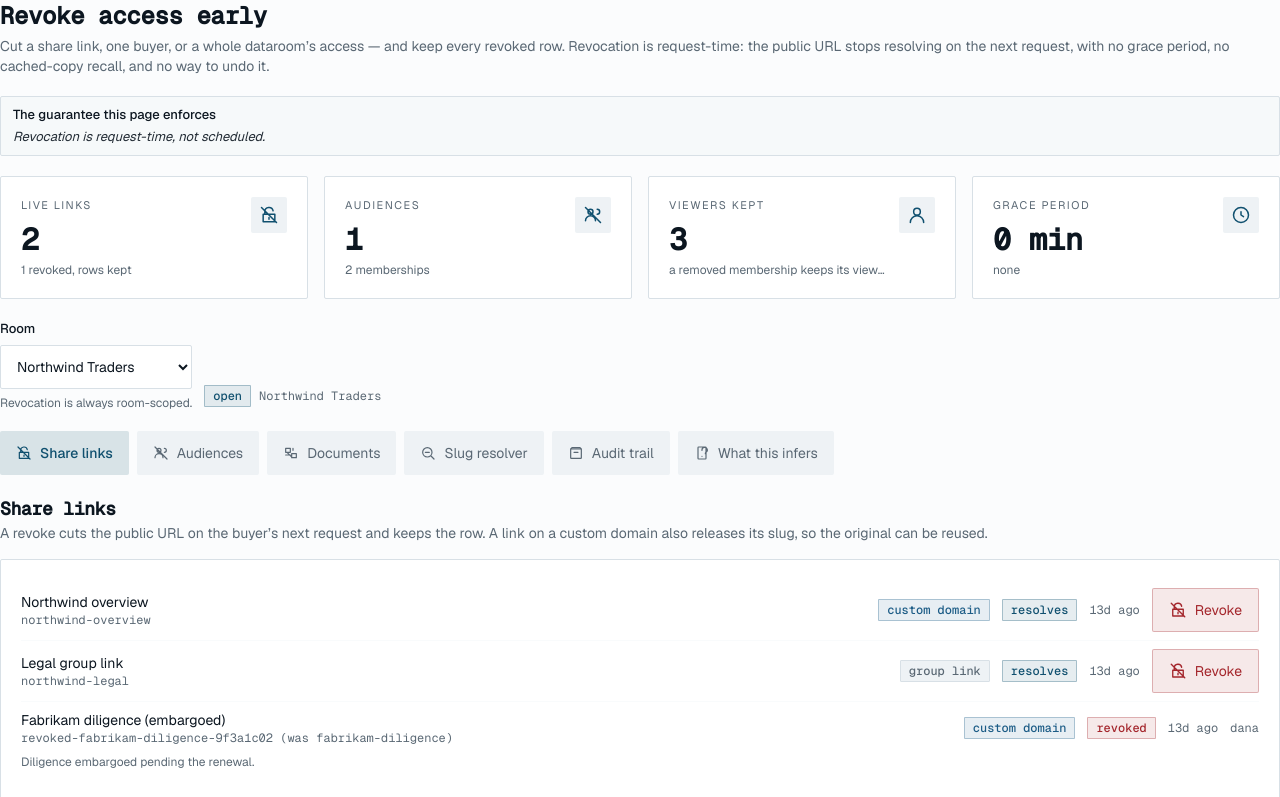
Test: share links › shows the retained row and its audit trail with the cut
Expected: the tab "Share links" is shown, x1=0 y1=432 x2=129 y2=476
Click the button "Revoke" in the row of "northwind-overview" at (1205, 610), box x1=1152 y1=588 x2=1259 y2=632
(page scrolled)
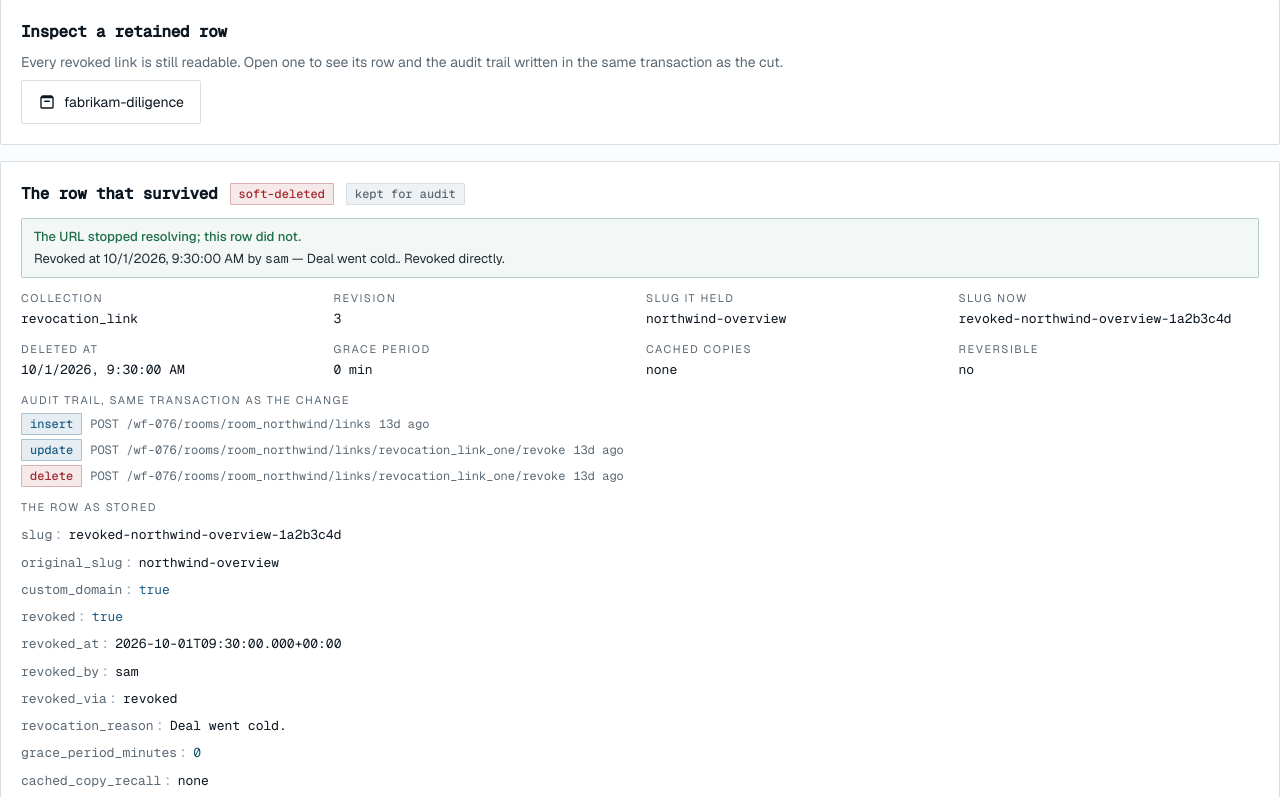
Result: the heading "The row that survived" is shown at x1=21 y1=182 x2=218 y2=206
Result: the text "soft-deleted" is shown at x1=230 y1=183 x2=334 y2=205
Result: the text "kept for audit" is shown at x1=346 y1=183 x2=465 y2=205
